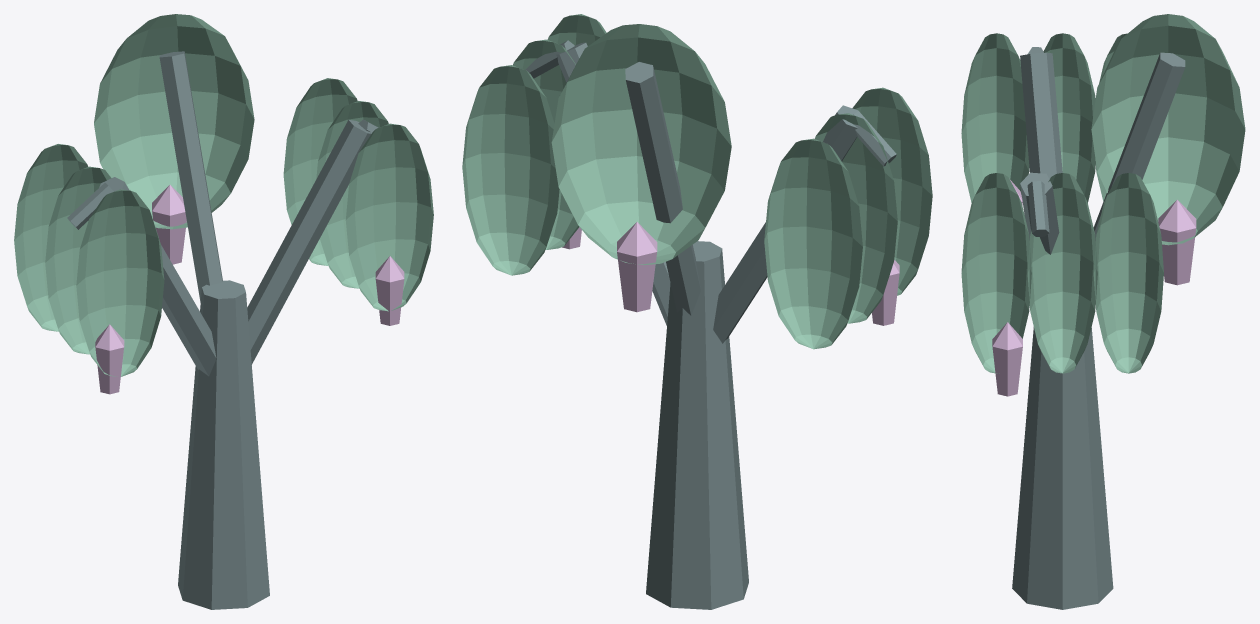
File: runestone-conservatory-crystal-willow-tree__108.glb
3 views of the same model, side by side, from view 1: azimuth 30°, elevation 25°; view 2: azimuth 150°, elevation 25°; view 3: azimuth 270°, elevation 25° (orthographic). The views are drawn at different scales.
Visible parts, largest first — view 1: runestone-conservatory-crystal-willow; view 2: runestone-conservatory-crystal-willow; view 3: runestone-conservatory-crystal-willow.
Part boxes in pixels (x1,y1,x2,y2): runestone-conservatory-crystal-willow: (14, 14, 433, 609); runestone-conservatory-crystal-willow: (462, 14, 932, 609); runestone-conservatory-crystal-willow: (961, 14, 1245, 609).
Bounding box in the file's own units: 1.96 × 2.85 × 1.29.
